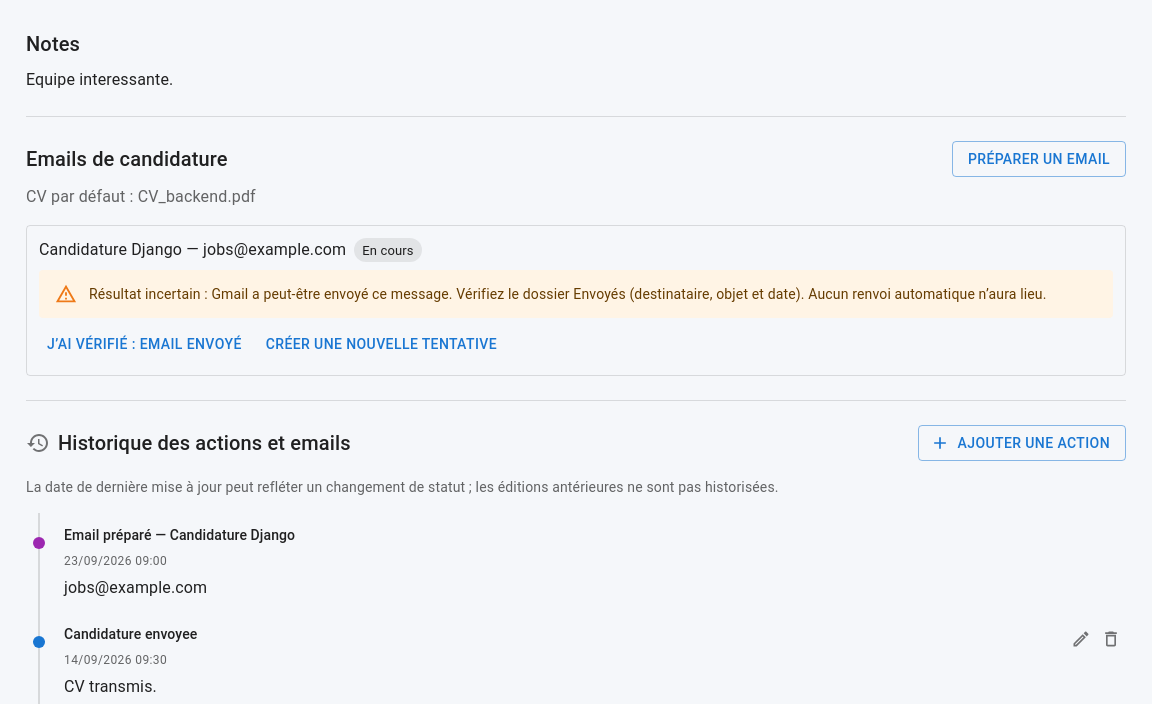
uncertain sending offers manual confirmation and a new editable draft
The image size is (1152, 704).
(page scrolled)
Expected: the text "Résultat incertain" is shown, [89, 286, 1047, 302]
Click the button with aria-label "Créer une nouvelle tentative pour Candidature Django": (381,345) [258, 326, 505, 363]
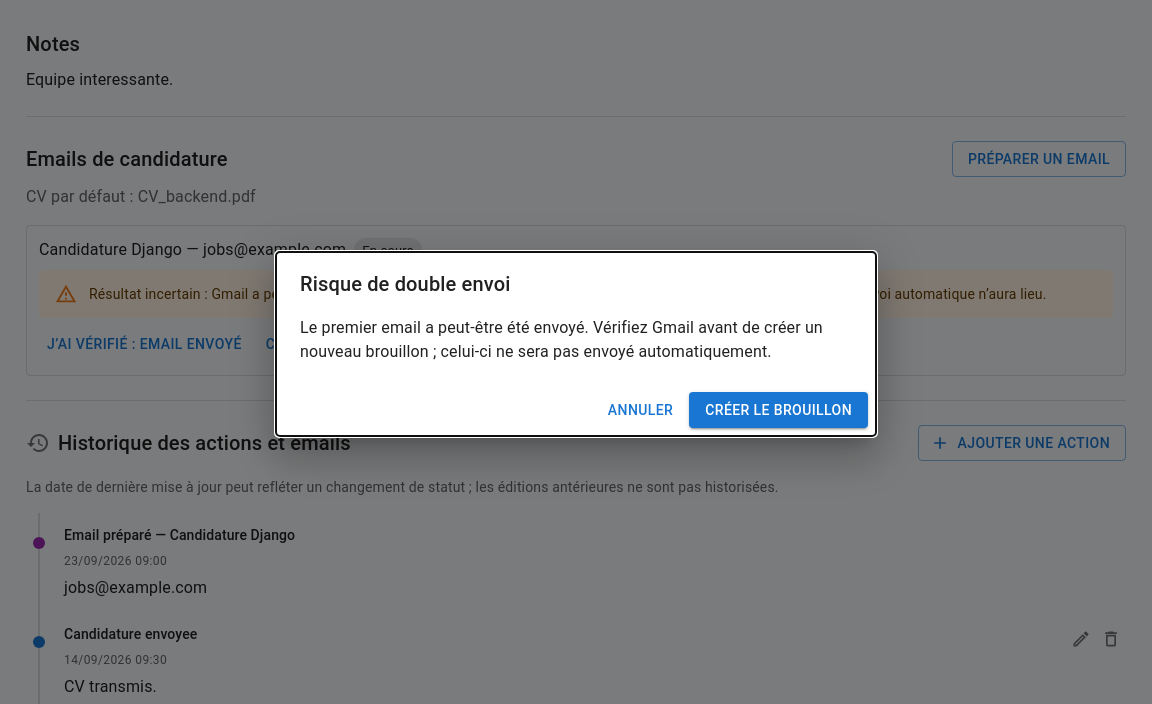
Expected: the dialog "Risque de double envoi" is shown, [276, 252, 876, 436]
Click the button "Créer le brouillon": (779,410) [689, 392, 868, 428]
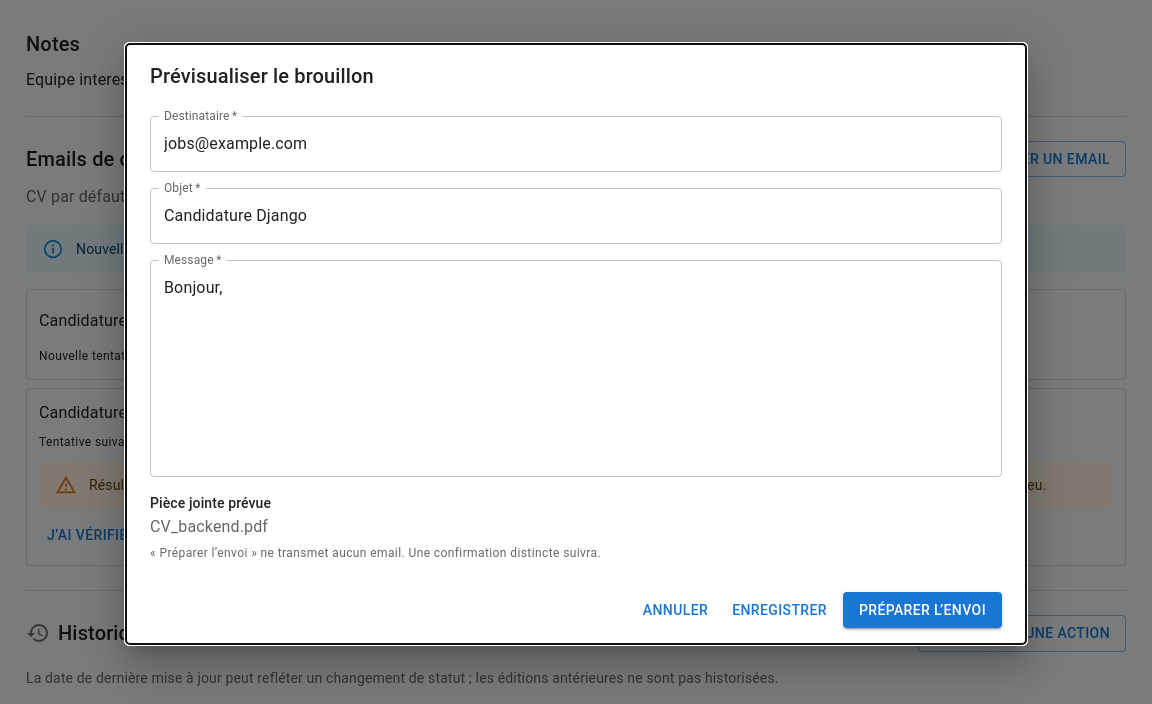
Expected: the dialog "Prévisualiser le brouillon" is shown
Expected: the text "Nouvelle tentative de l’email #25" is shown, [39, 349, 225, 363]
